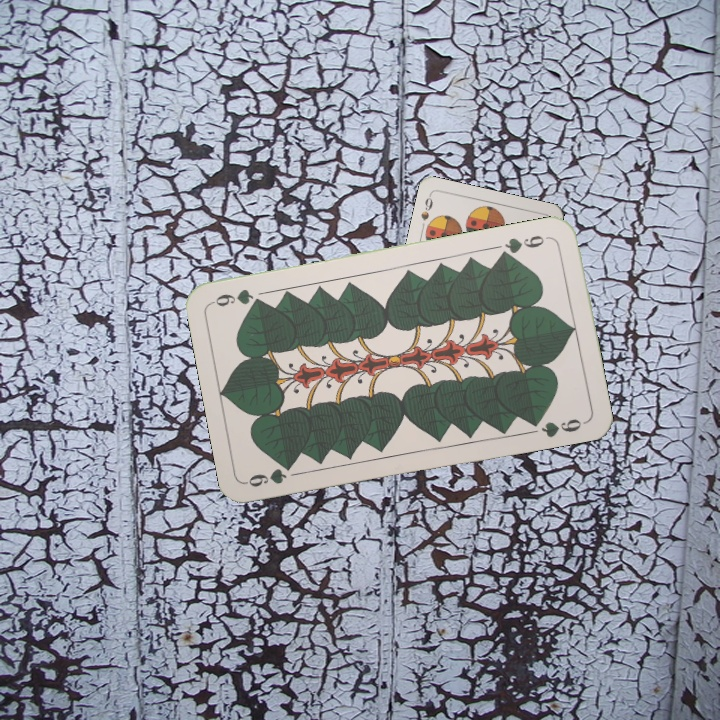G9: (496, 231, 553, 260), (243, 461, 296, 490)
S9: (417, 191, 435, 223)
